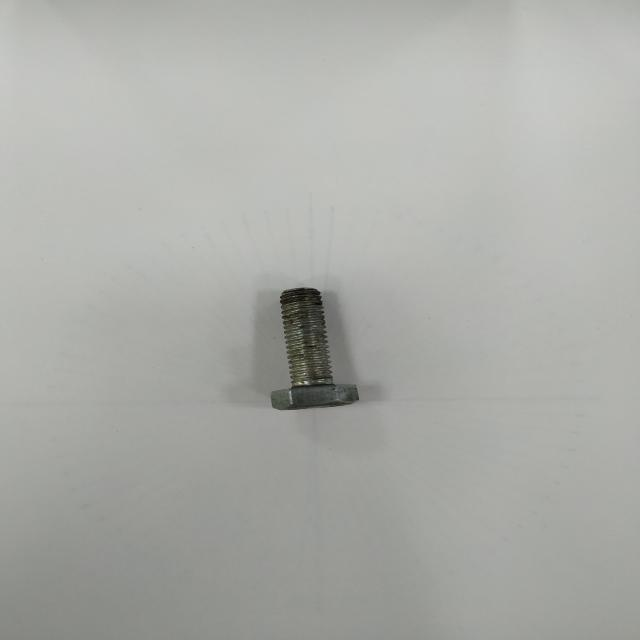Bolt: (270, 288, 358, 410)
